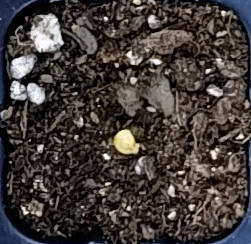pepper seed: (43, 52, 183, 207)
